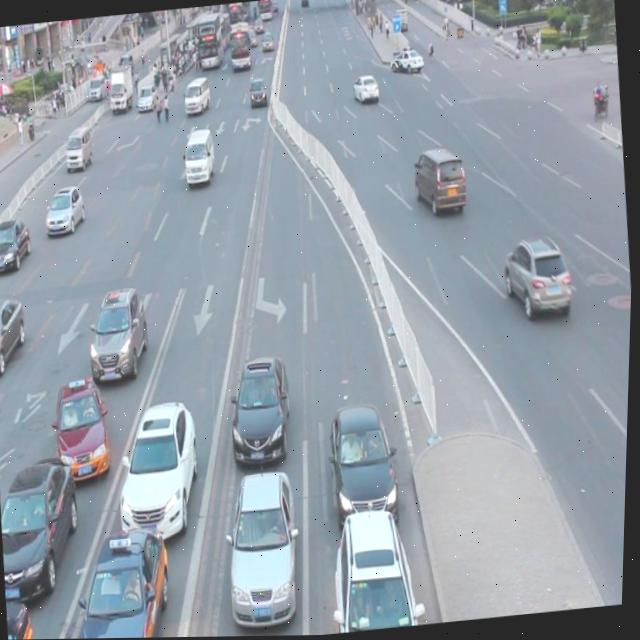car: (220, 462, 309, 631), (111, 396, 209, 545), (0, 452, 89, 607), (66, 519, 179, 639), (330, 501, 428, 634), (326, 397, 404, 528), (225, 350, 299, 468), (51, 373, 118, 486), (84, 282, 154, 386), (501, 233, 575, 323), (411, 146, 469, 219), (0, 292, 31, 378), (43, 182, 89, 236), (0, 216, 35, 276), (8, 596, 40, 640)
truck: (181, 127, 217, 185), (63, 124, 95, 172)
